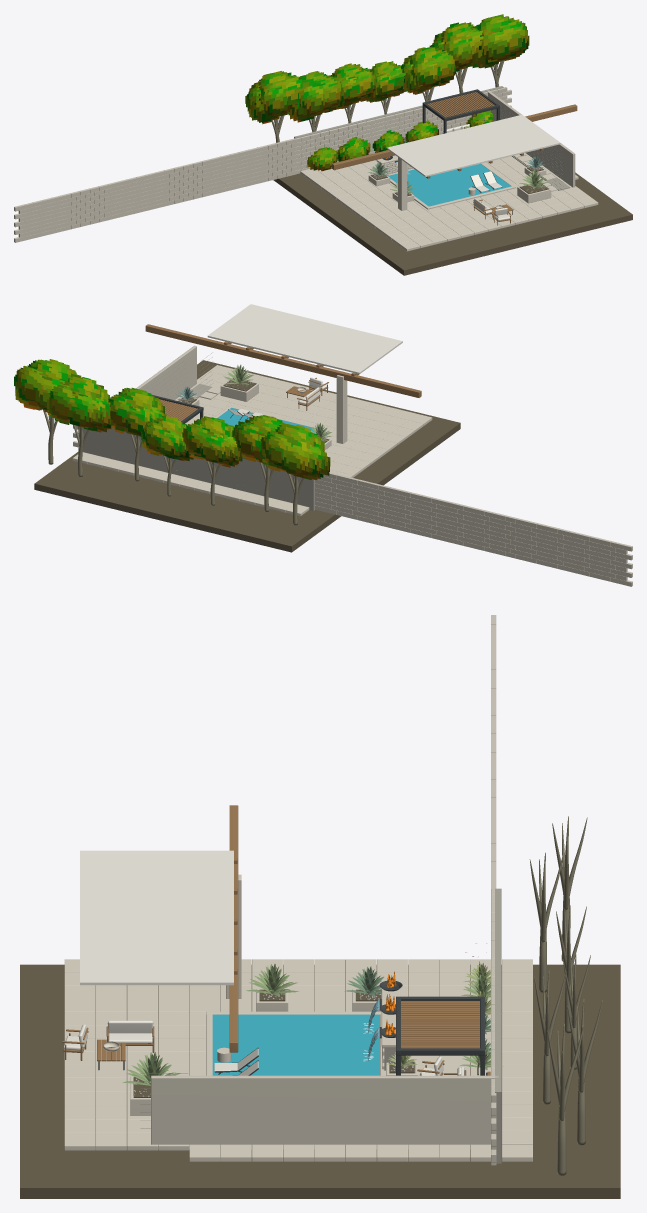
The model's file is courtyard_anime.glb.
3 views of the same model, one above another, from view 1: azimuth 30°, elevation 25°; view 2: azimuth 150°, elevation 25°; view 3: azimuth 270°, elevation 25° (orthographic). The views are drawn at different scales.
Visible parts, largest first — view 1: Cream concrete blocks, Warm ivory limestone, Planter earth, Natural linen upholstery, Pool clear turquoise water, Anime tree 6 crown, Anime tree 0 crown, Honey teak, Anime tree 4 crown, Anime tree 1 crown, Anime tree 5 crown, Anime tree 2 crown (+7 smaller); view 2: Cream concrete blocks, Planter earth, Warm ivory limestone, Natural linen upholstery, Sandstone joints, Honey teak, Anime tree 0 crown, Anime tree 5 crown, Anime tree 2 crown, Anime tree 6 crown, Anime tree 4 crown, Anime tree 3 crown (+3 smaller); view 3: Planter earth, Warm ivory limestone, Cream concrete blocks, Natural linen upholstery, Pool clear turquoise water, Honey teak, Pergola powder coated charcoal, Agave foliage 1, Sandstone joints.
Boxes of the visible parts, left/top/right/bottom form: Cream concrete blocks: left=14, top=87, right=575, bottom=242; Warm ivory limestone: left=300, top=153, right=598, bottom=251; Planter earth: left=273, top=166, right=632, bottom=275; Natural linen upholstery: left=387, top=114, right=560, bottom=220; Pool clear turquoise water: left=388, top=164, right=511, bottom=206; Anime tree 6 crown: left=471, top=14, right=529, bottom=68; Anime tree 0 crown: left=245, top=71, right=304, bottom=124; Honey teak: left=332, top=91, right=577, bottom=225; Anime tree 4 crown: left=401, top=46, right=455, bottom=94; Anime tree 1 crown: left=287, top=71, right=343, bottom=122; Anime tree 5 crown: left=429, top=22, right=483, bottom=73; Anime tree 2 crown: left=331, top=63, right=376, bottom=109; Cream concrete blocks: left=73, top=345, right=632, bottom=586; Planter earth: left=34, top=360, right=460, bottom=552; Warm ivory limestone: left=72, top=365, right=432, bottom=516; Natural linen upholstery: left=207, top=304, right=402, bottom=417; Sandstone joints: left=82, top=352, right=314, bottom=510; Honey teak: left=145, top=324, right=421, bottom=420; Anime tree 0 crown: left=260, top=423, right=330, bottom=479; Anime tree 5 crown: left=47, top=373, right=113, bottom=432; Anime tree 2 crown: left=182, top=416, right=242, bottom=467; Anime tree 6 crown: left=14, top=359, right=81, bottom=412; Anime tree 4 crown: left=108, top=387, right=166, bottom=436; Anime tree 3 crown: left=141, top=416, right=193, bottom=461; Planter earth: left=20, top=964, right=620, bottom=1198; Warm ivory limestone: left=64, top=874, right=532, bottom=1161; Cream concrete blocks: left=151, top=615, right=498, bottom=1165; Natural linen upholstery: left=63, top=850, right=464, bottom=1075; Pool clear turquoise water: left=212, top=1014, right=379, bottom=1075; Honey teak: left=62, top=805, right=490, bottom=1075; Pergola powder coated charcoal: left=98, top=981, right=487, bottom=1075; Agave foliage 1: left=122, top=964, right=502, bottom=1085; Sandstone joints: left=140, top=888, right=501, bottom=1163.
Size of the model in its own units: 50.96 by 9.55 by 25.26.
